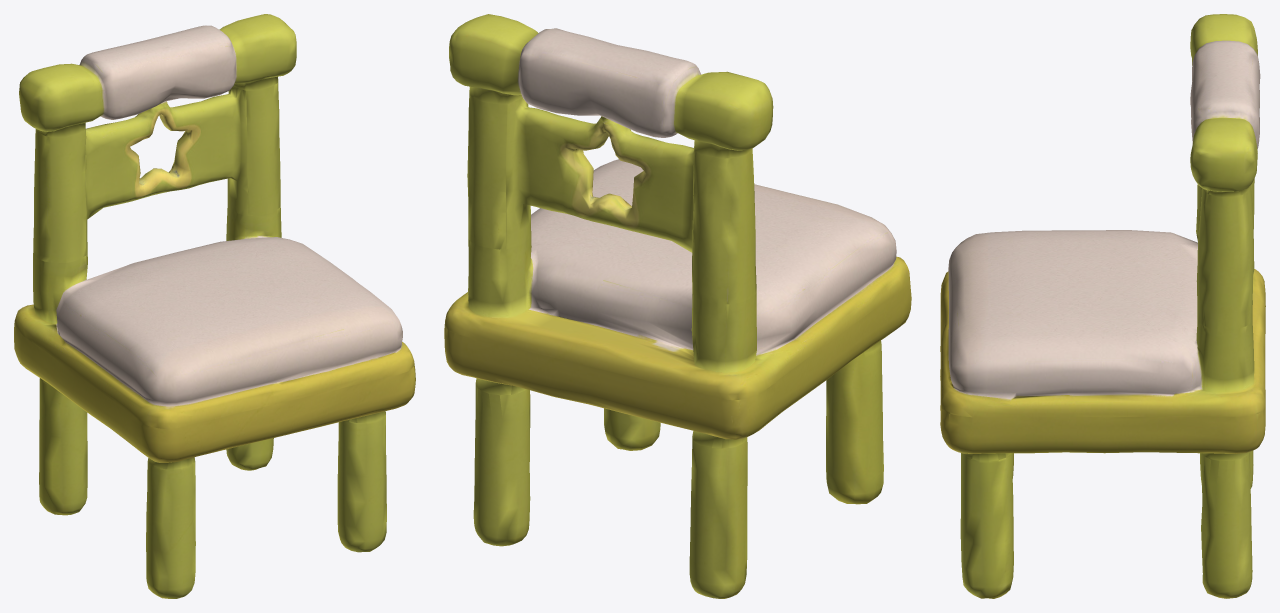
File: dream-chair.glb
The picture shows the model from 3 angles, left to right: view 1: azimuth 30°, elevation 25°; view 2: azimuth 150°, elevation 25°; view 3: azimuth 270°, elevation 25°; orthographic projection. The views are drawn at different scales.
Parts seen in each view (by area): view 1: chair_cushion, chair_top_rail, chair_seat, chair_star_rail, chair_back_post_left, chair_leg_front_left, chair_leg_front_right, chair_leg_back_left, chair_back_post_right, chair_leg_back_right; view 2: chair_cushion, chair_top_rail, chair_seat, chair_star_rail, chair_back_post_left, chair_leg_back_left, chair_leg_back_right, chair_leg_front_left, chair_back_post_right, chair_leg_front_right; view 3: chair_cushion, chair_seat, chair_top_rail, chair_back_post_right, chair_leg_front_right, chair_leg_back_right.
Part boxes in pixels (box(x1,y1,x2,y2)): chair_cushion: box(14, 204, 414, 429); chair_top_rail: box(19, 14, 296, 137); chair_seat: box(14, 326, 415, 469); chair_star_rail: box(85, 85, 247, 253); chair_back_post_left: box(33, 129, 86, 262); chair_leg_front_left: box(146, 459, 195, 598); chair_leg_front_right: box(337, 412, 386, 552); chair_leg_back_left: box(39, 378, 87, 515); chair_back_post_right: box(246, 80, 280, 215); chair_leg_back_right: box(226, 438, 273, 470); chair_cushion: box(445, 159, 909, 400); chair_top_rail: box(449, 14, 773, 158); chair_seat: box(444, 281, 911, 448); chair_star_rail: box(505, 97, 694, 293); chair_back_post_left: box(693, 149, 756, 304); chair_leg_back_left: box(689, 436, 747, 598); chair_leg_back_right: box(473, 383, 530, 546); chair_leg_front_left: box(826, 343, 883, 504); chair_back_post_right: box(467, 94, 507, 249); chair_leg_front_right: box(604, 408, 660, 450); chair_cushion: box(940, 217, 1265, 417); chair_seat: box(940, 288, 1265, 461); chair_top_rail: box(1190, 14, 1260, 197); chair_back_post_right: box(1196, 187, 1253, 329); chair_leg_front_right: box(960, 453, 1013, 598); chair_leg_back_right: box(1200, 452, 1252, 598).
Bounding box in the file's own units: 1.21 × 1.9 × 1.19.
Materials: 1 (1 with a texture image).
